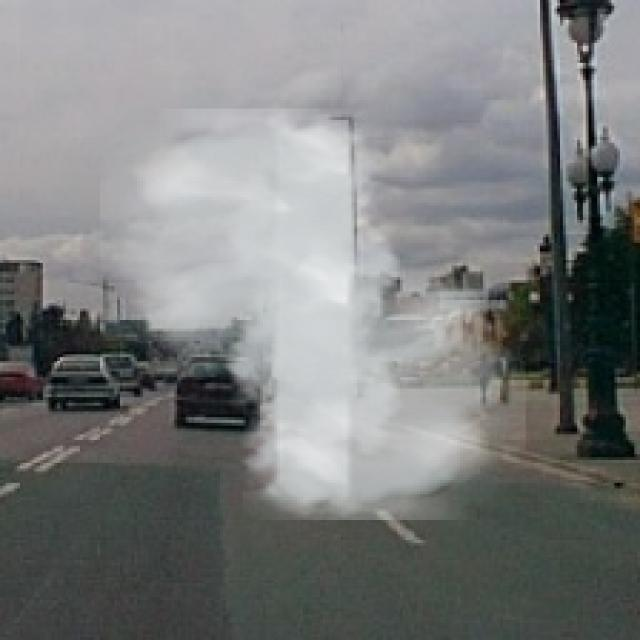smoke: (100, 109, 526, 520)
